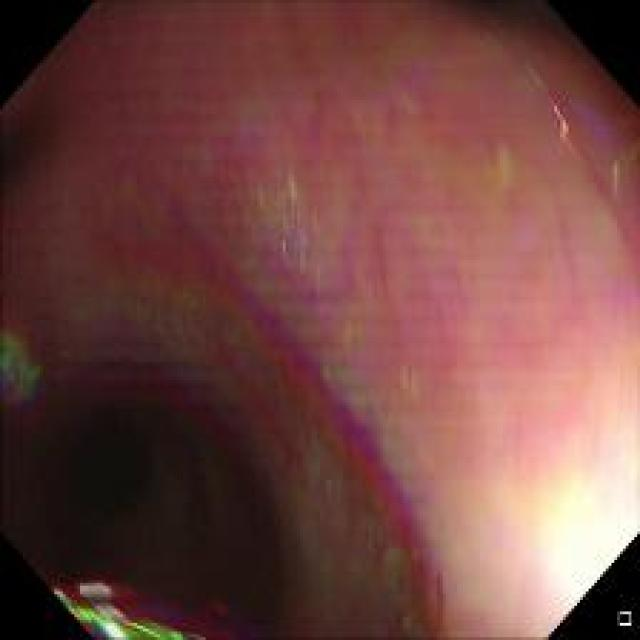color misalignment: (206, 241, 458, 636), (199, 168, 346, 308), (522, 49, 630, 212), (49, 575, 236, 636), (0, 310, 55, 431)
contrast: (11, 336, 299, 629)
saturation: (496, 425, 635, 631)
